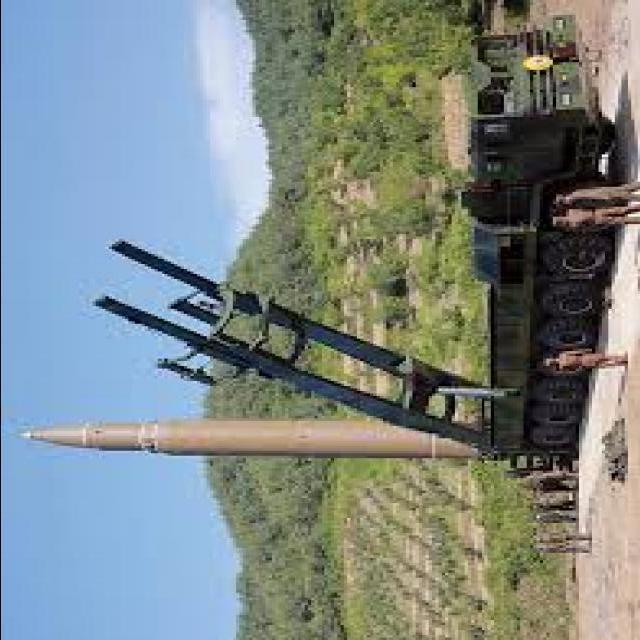missile: (19, 412, 491, 466)
